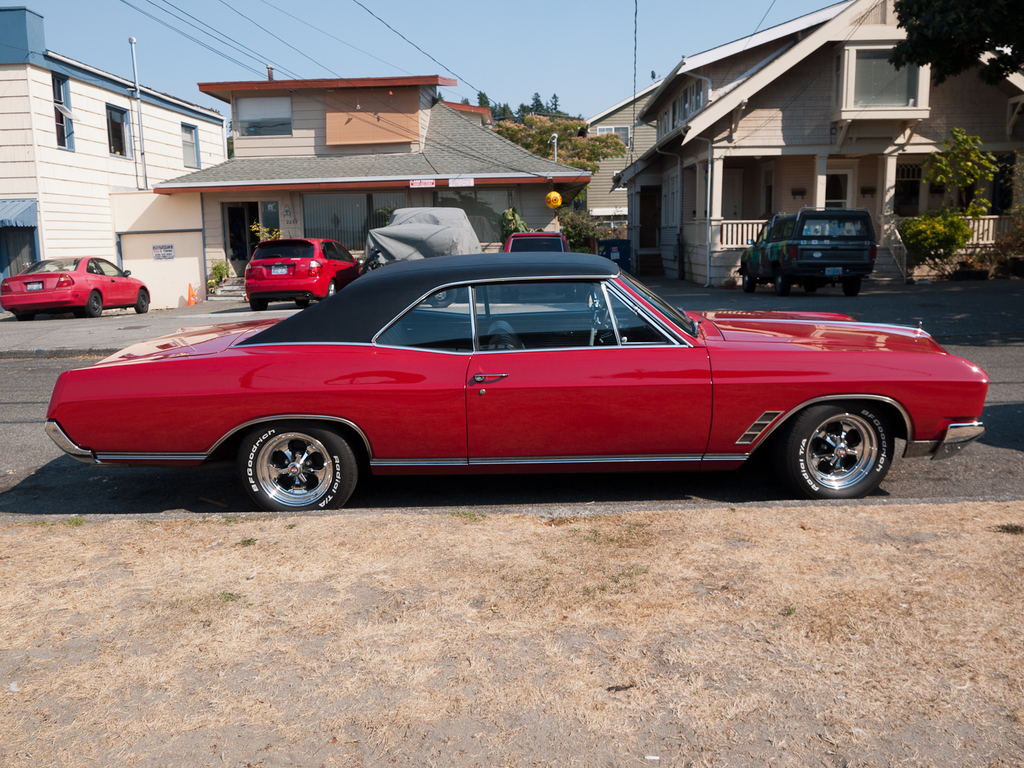Car: (45, 253, 993, 503), (0, 256, 148, 315), (241, 235, 359, 307)
